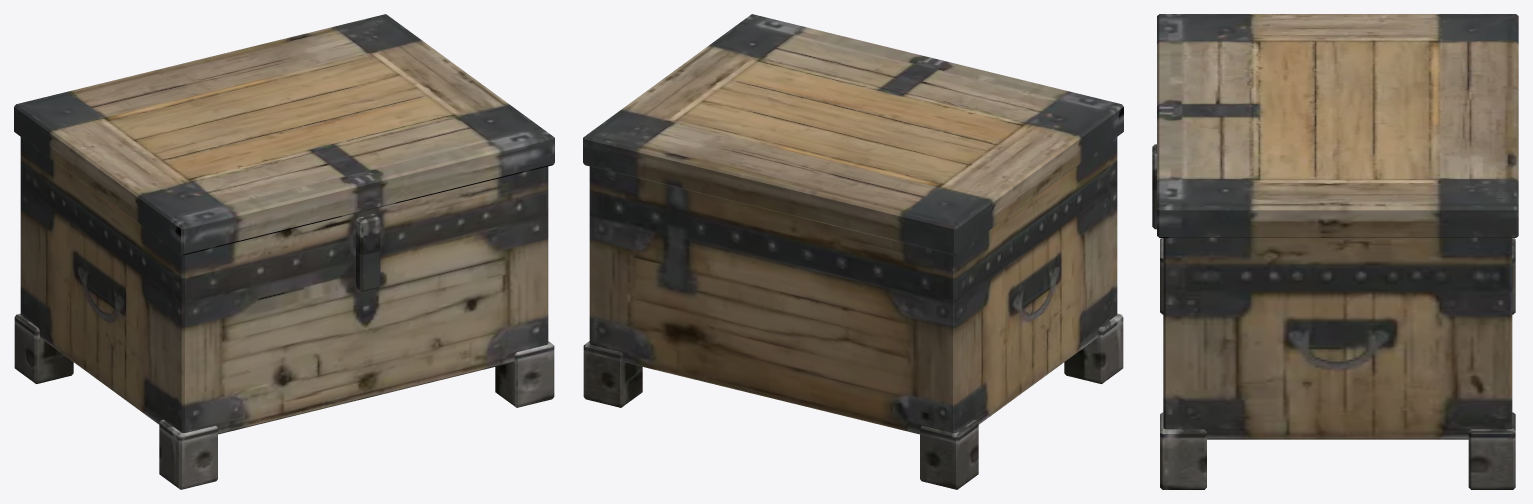
The model's file is chest-a.glb.
3 views of the same model, side by side, from view 1: azimuth 30°, elevation 25°; view 2: azimuth 150°, elevation 25°; view 3: azimuth 270°, elevation 25° (orthographic). The views are drawn at different scales.
Visible parts, largest first — view 1: chest-banded; view 2: chest-banded; view 3: chest-banded.
Boxes of the visible parts, x1,y1,x2,y2 form: chest-banded: (14,14,554,489); chest-banded: (583,14,1123,489); chest-banded: (1152,14,1518,489).
Size of the model in its own units: 0.743 by 0.5 by 0.5875.
Materials: 1 (1 with a texture image).
